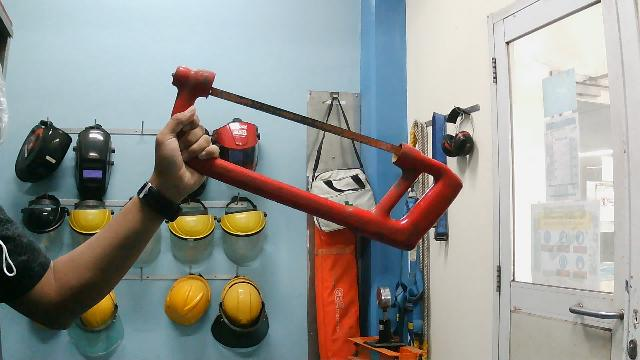gergaji_besi: (152, 62, 468, 257)
